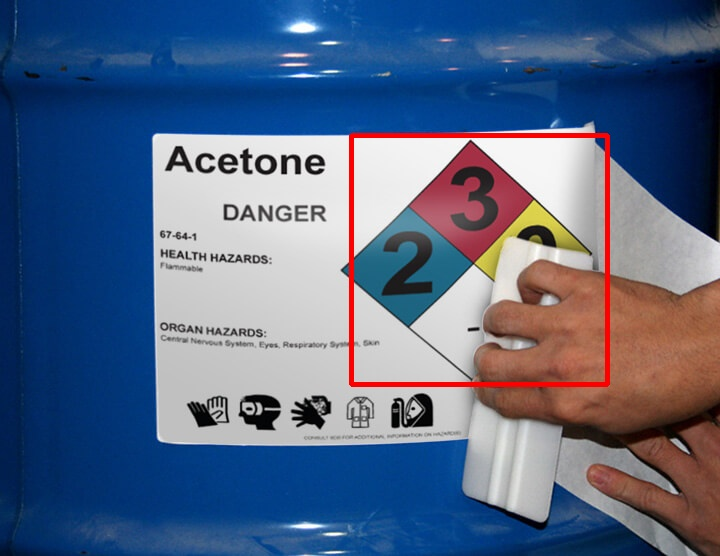nfpa: (351, 135, 607, 384)
